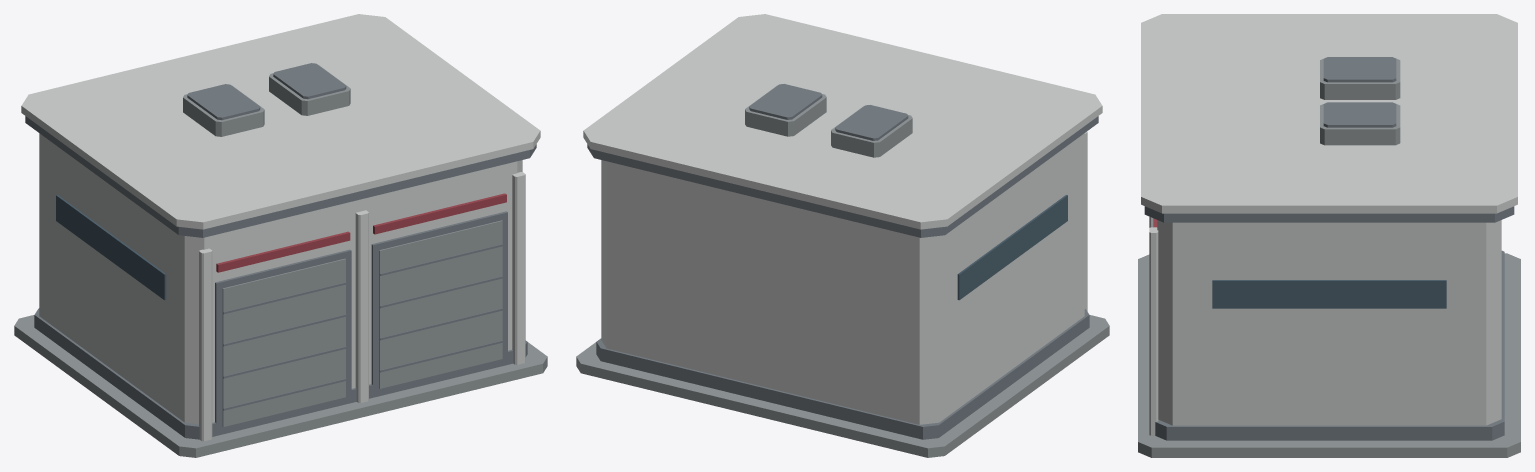
Rendered from AviationBuildingHangar.gltf.
3 views of the same model, side by side, from view 1: azimuth 30°, elevation 25°; view 2: azimuth 150°, elevation 25°; view 3: azimuth 270°, elevation 25° (orthographic). The views are drawn at different scales.
Visible parts, largest first — view 1: AviationBuildingHangar; view 2: AviationBuildingHangar; view 3: AviationBuildingHangar.
Boxes of the visible parts, box(x1,y1,x2,y2) form: AviationBuildingHangar: box(14, 14, 547, 457); AviationBuildingHangar: box(576, 14, 1109, 457); AviationBuildingHangar: box(1138, 14, 1520, 457).
Size of the model in its own units: 24 by 15.56 by 20.
